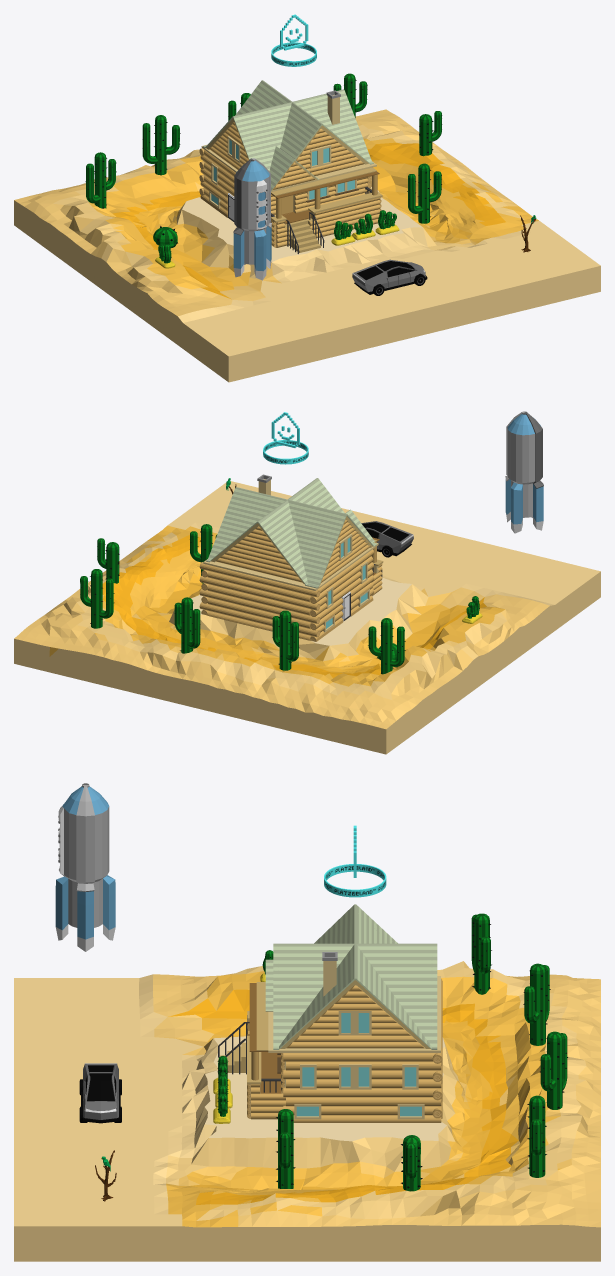
3 renders of one model, top to bottom at view 1: azimuth 30°, elevation 25°; view 2: azimuth 150°, elevation 25°; view 3: azimuth 270°, elevation 25°, orthographic. The views are drawn at different scales.
Parts seen in each view (by area): view 1: Cube.001, Cube.1516, OBJRANDOM_ROCKETSHIP, VEHICLES_CYBERTRUCK, Cylinder.044, Cylinder.037, Cylinder.045, TYPE_PREMIUM, Cylinder.038, Cylinder.042; view 2: Cube.001, Cube.1516, OBJRANDOM_ROCKETSHIP, Cylinder.042, Cylinder.045, Cylinder.044, Cylinder.043, VEHICLES_CYBERTRUCK, TYPE_PREMIUM, Cylinder.038, Cylinder.037; view 3: Cube.001, Cube.1516, OBJRANDOM_ROCKETSHIP, VEHICLES_CYBERTRUCK, Cylinder.043, Cylinder.044, Cylinder.045, Cylinder.042, Cylinder.037, TYPE_PREMIUM, Cylinder.038.
Boxes of the visible parts, box(x1,y1,x2,y2) form: Cube.001: box(14, 109, 600, 382); Cube.1516: box(199, 80, 382, 253); OBJRANDOM_ROCKETSHIP: box(233, 158, 271, 280); VEHICLES_CYBERTRUCK: box(352, 259, 427, 295); Cylinder.044: box(142, 115, 180, 175); Cylinder.037: box(407, 163, 441, 223); Cylinder.045: box(85, 152, 116, 208); TYPE_PREMIUM: box(271, 14, 316, 66); Cylinder.038: box(419, 111, 442, 156); Cylinder.042: box(333, 73, 367, 117); Cube.001: box(14, 481, 600, 754); Cube.1516: box(199, 474, 383, 641); OBJRANDOM_ROCKETSHIP: box(505, 411, 543, 533); Cylinder.042: box(80, 569, 114, 628); Cylinder.045: box(368, 618, 405, 674); Cylinder.044: box(272, 610, 299, 670); Cylinder.043: box(174, 597, 200, 653); VEHICLES_CYBERTRUCK: box(361, 521, 413, 557); TYPE_PREMIUM: box(263, 412, 308, 464); Cylinder.038: box(97, 538, 119, 583); Cylinder.037: box(190, 524, 217, 583); Cube.001: box(14, 961, 600, 1261); Cube.1516: box(218, 904, 442, 1122); OBJRANDOM_ROCKETSHIP: box(55, 783, 115, 951); VEHICLES_CYBERTRUCK: box(79, 1063, 121, 1123); Cylinder.043: box(539, 1031, 567, 1109); Cylinder.044: box(523, 963, 550, 1045); Cylinder.045: box(471, 913, 491, 994); Cylinder.042: box(527, 1095, 546, 1177); Cylinder.037: box(276, 1109, 295, 1188); TYPE_PREMIUM: box(324, 825, 386, 897); Cylinder.038: box(401, 1135, 422, 1191).
Size of the model in its own units: 4002 by 2437 by 4001.
Materials: 38 (4 with a texture image).
